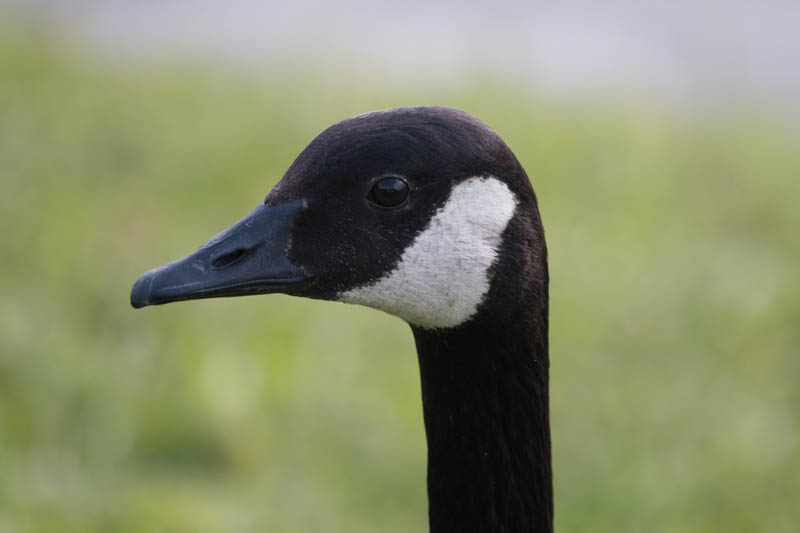goose-head: (131, 108, 549, 336)
